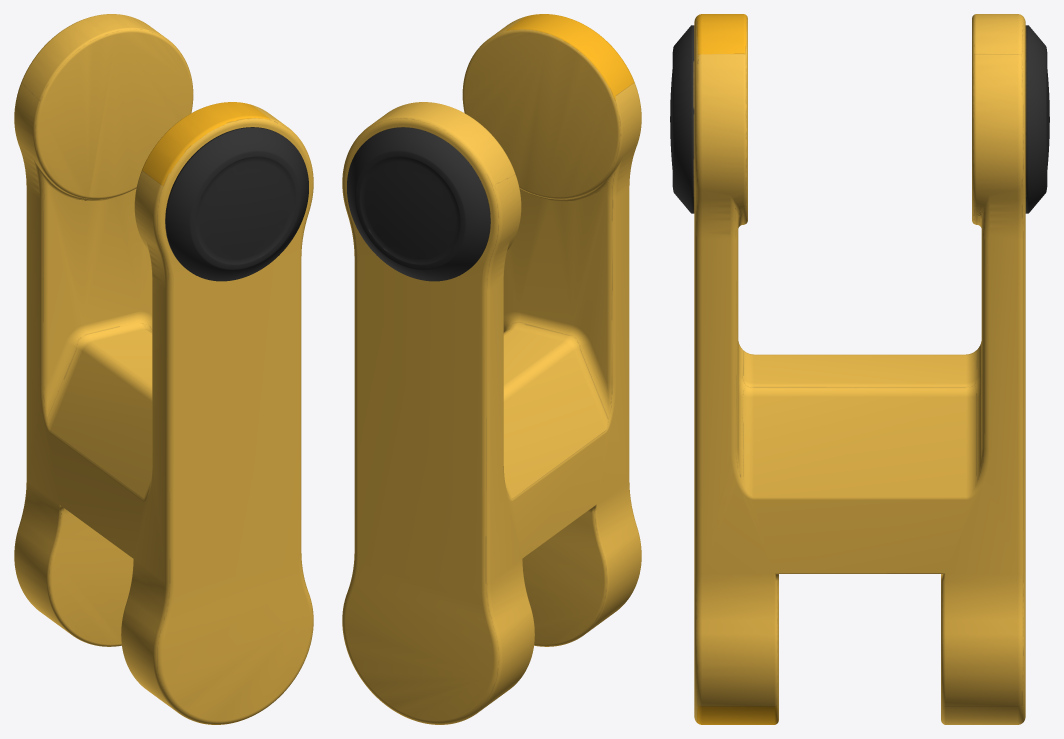
File: torso1.glb
3 views of the same model, side by side, from view 1: azimuth 30°, elevation 25°; view 2: azimuth 150°, elevation 25°; view 3: azimuth 270°, elevation 25° (orthographic). The views are drawn at different scales.
Visible parts, largest first — view 1: torso1; view 2: torso1; view 3: torso1.
Boxes of the visible parts, bbox=[...] form: torso1: bbox=[14, 14, 313, 724]; torso1: bbox=[342, 14, 641, 724]; torso1: bbox=[670, 14, 1049, 724].
Bounding box in the file's own units: 0.13 × 0.47 × 0.234.
1 material, 1 textured.
